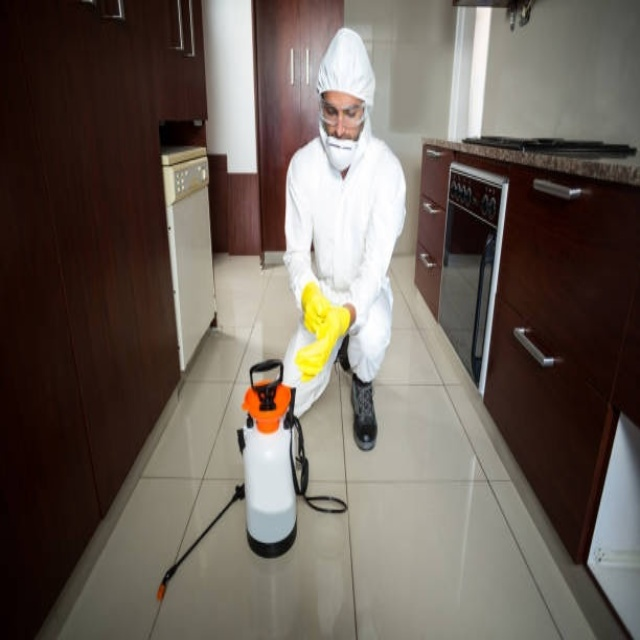Gafas: (320, 98, 367, 129)
Guantes: (296, 304, 350, 383), (302, 282, 334, 336)
Mascara: (320, 118, 363, 173)
